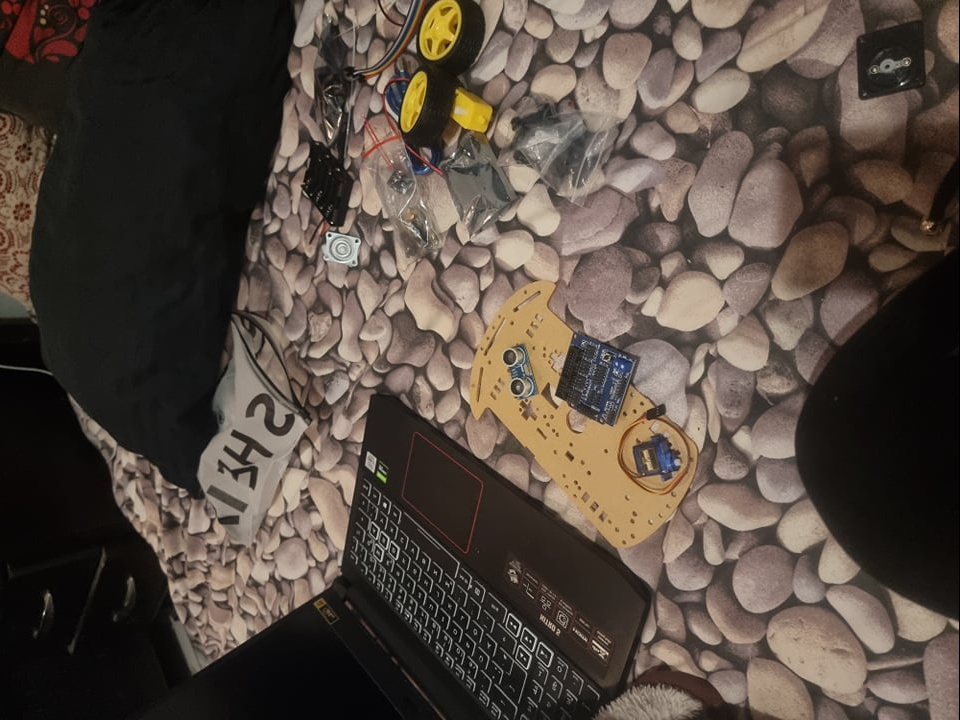5V EXPANSION: (556, 330, 640, 427)
BATTERY BOX: (296, 146, 355, 227)
SENSOR: (501, 343, 537, 400)
